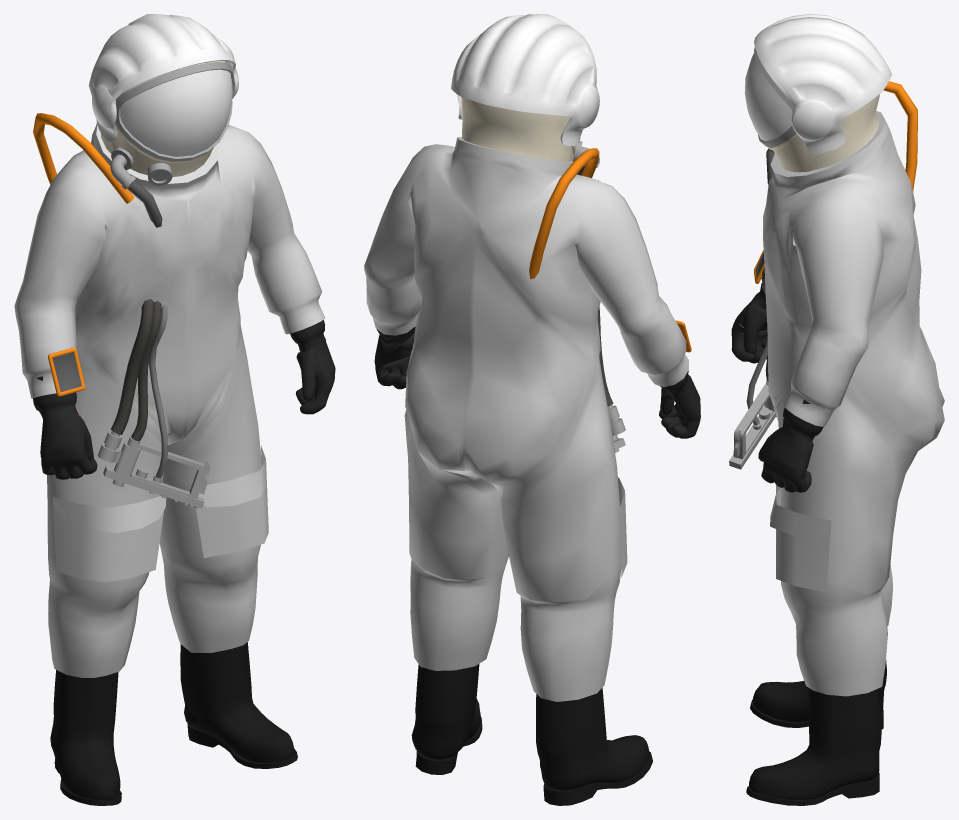
Rendered from forcefieldsuitpickup.fbx.
The picture shows the model from 3 angles, left to right: view 1: azimuth 30°, elevation 25°; view 2: azimuth 150°, elevation 25°; view 3: azimuth 270°, elevation 25°; orthographic projection.
Parts seen in each view (by area): view 1: skpVsGBRJ_001; view 2: skpVsGBRJ_001; view 3: skpVsGBRJ_001.
Boxes of the visible parts, x1,y1,x2,y2 form: skpVsGBRJ_001: [14, 14, 335, 805]; skpVsGBRJ_001: [364, 14, 700, 805]; skpVsGBRJ_001: [729, 14, 944, 805].
Bounding box in the file's own units: 834 × 1936 × 512.
